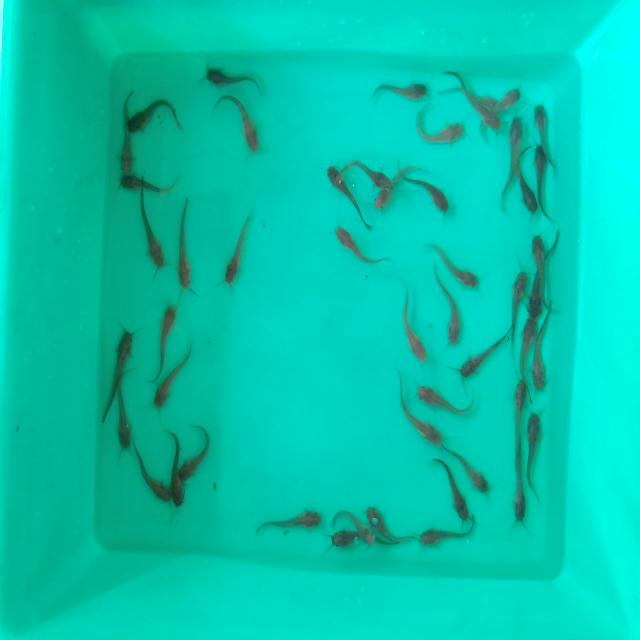lele: (334, 224, 394, 269), (408, 108, 465, 155), (394, 289, 428, 367), (319, 167, 365, 220), (459, 331, 506, 382), (438, 236, 482, 290), (438, 68, 500, 106), (224, 208, 252, 287), (225, 95, 260, 156), (416, 378, 480, 411), (177, 426, 214, 483), (138, 194, 166, 266), (396, 407, 444, 449), (432, 464, 470, 517), (138, 446, 171, 506), (433, 278, 463, 342), (364, 74, 428, 104), (374, 161, 414, 209), (458, 438, 492, 494), (259, 505, 321, 535), (372, 500, 416, 542), (109, 328, 135, 397), (418, 518, 482, 546), (153, 358, 188, 409), (129, 96, 177, 133), (114, 92, 134, 174), (176, 202, 194, 290), (156, 300, 176, 378), (341, 151, 386, 185), (410, 178, 450, 216), (204, 66, 260, 93), (504, 116, 522, 200), (526, 409, 544, 492), (511, 376, 529, 456), (535, 144, 554, 219), (516, 153, 538, 217), (461, 103, 501, 137), (526, 225, 558, 267), (515, 318, 538, 375), (168, 432, 183, 510), (116, 379, 132, 452), (534, 333, 552, 396), (117, 177, 176, 196), (512, 456, 526, 534), (527, 264, 546, 317), (508, 262, 527, 313), (535, 99, 553, 150), (353, 514, 376, 546), (500, 85, 523, 114), (330, 526, 354, 550)
